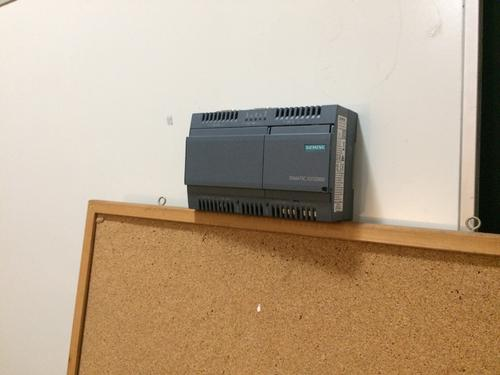iot2000: (183, 103, 358, 224)
